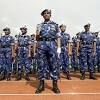uniform: (39, 22, 60, 86), (77, 32, 95, 75), (58, 33, 74, 77), (16, 34, 31, 78), (1, 35, 16, 78)
